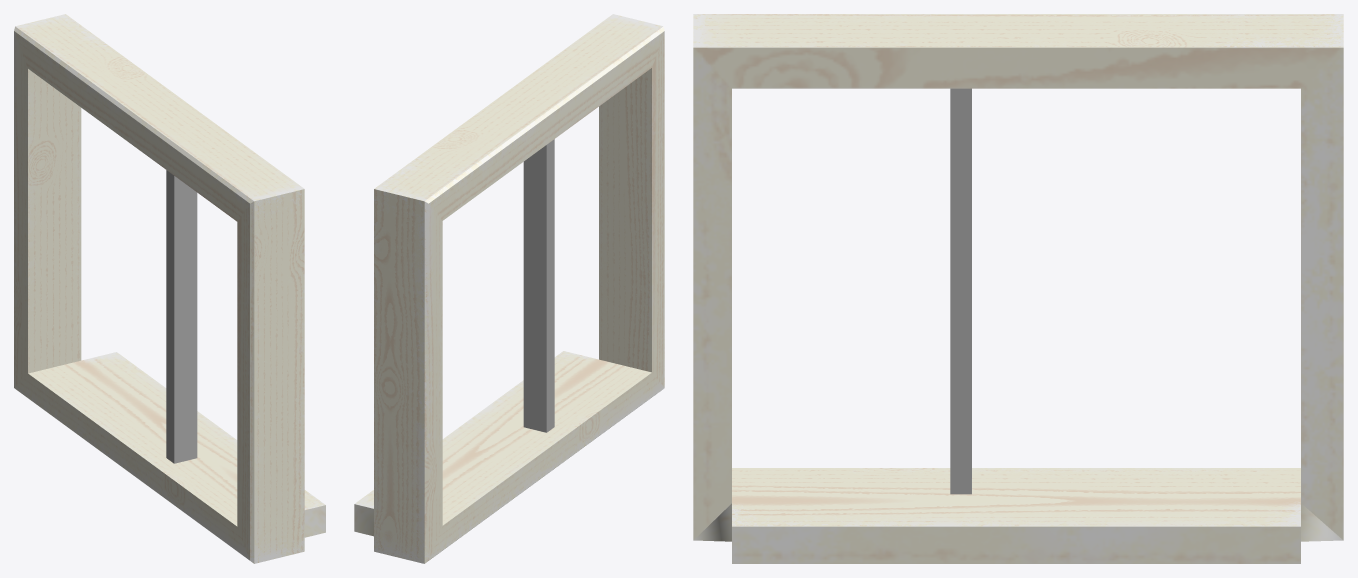
Rendered from windowFrame_textured.fbx.
3 views of the same model, side by side, from view 1: azimuth 30°, elevation 25°; view 2: azimuth 150°, elevation 25°; view 3: azimuth 270°, elevation 25° (orthographic). The views are drawn at different scales.
Parts seen in each view (by area): view 1: window; view 2: window; view 3: window.
Part boxes in pixels (left/top/right/bottom): window: left=14, top=14, right=325, bottom=563; window: left=354, top=14, right=664, bottom=563; window: left=693, top=14, right=1343, bottom=563.
Size of the model in its own units: 5592 by 21881 by 26148.
1 material, 1 textured.
